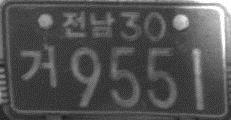0: (143, 10, 166, 42)
1: (189, 46, 206, 110)
3: (119, 9, 142, 43)
5: (144, 45, 179, 112), (107, 44, 140, 110)
9: (68, 46, 102, 109)
거: (19, 42, 59, 89)
전남_O: (60, 9, 116, 39)
